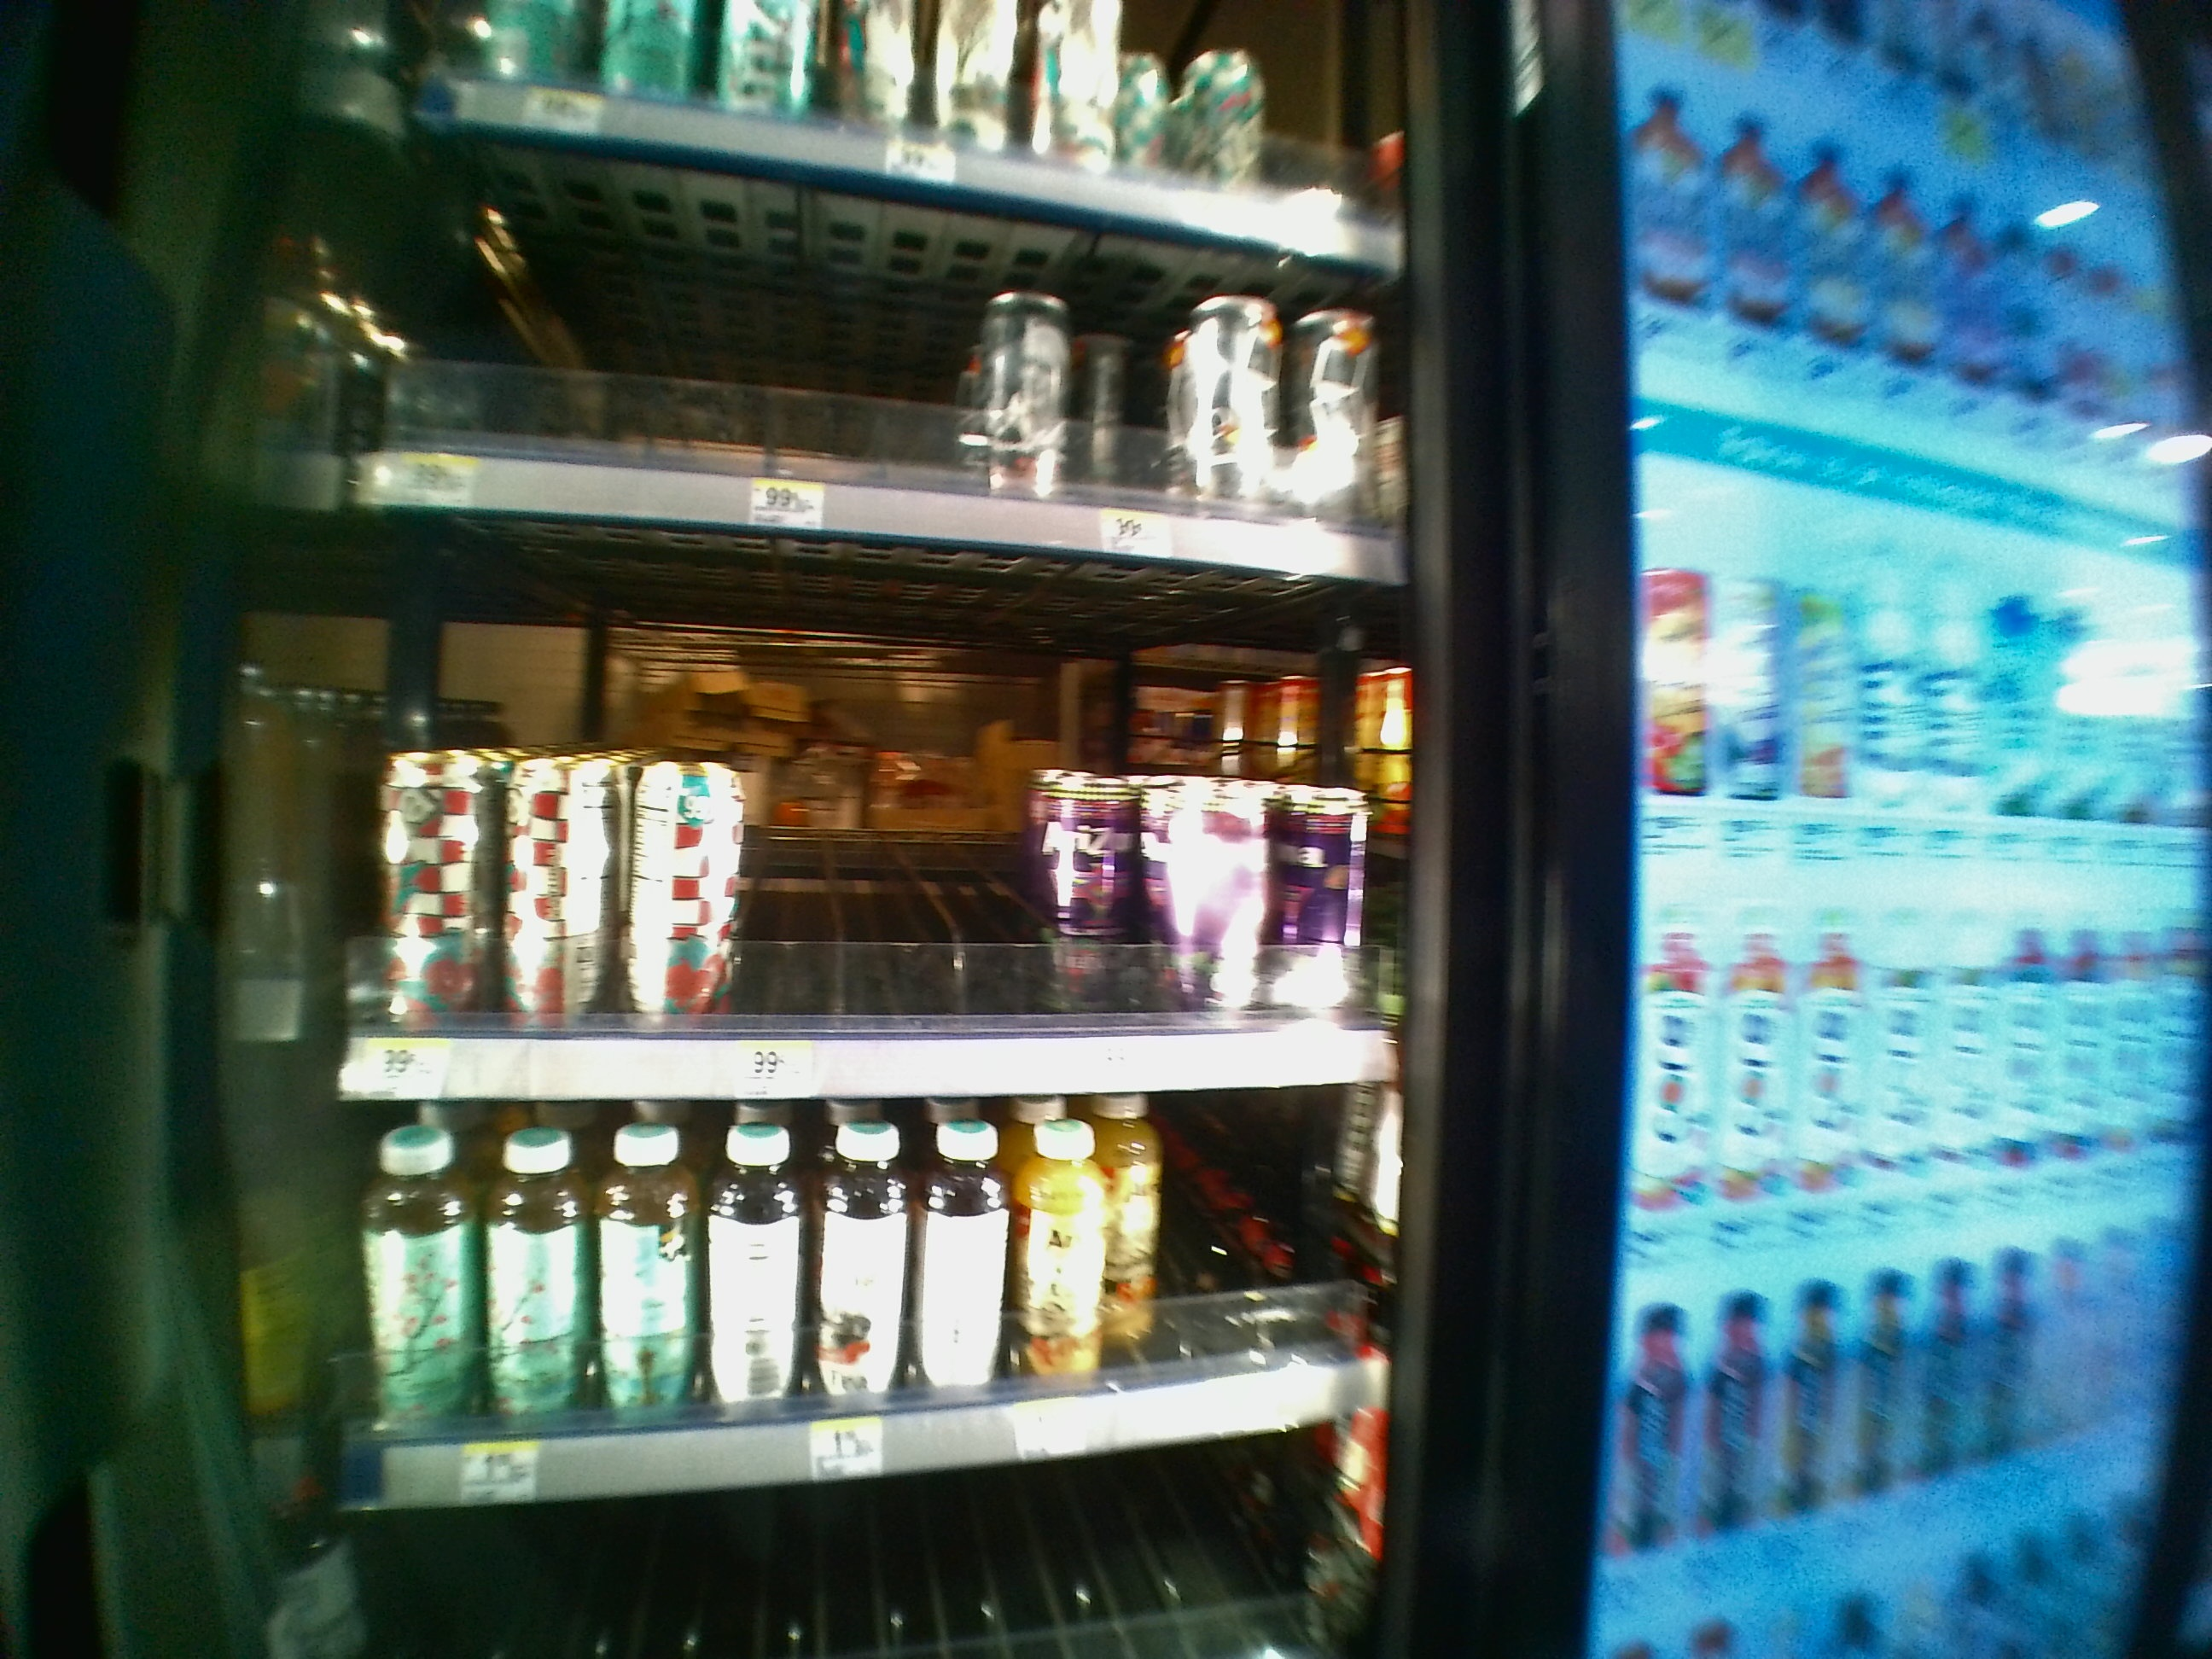shelf: (343, 512, 1407, 1093), (343, 1103, 1400, 1504)
